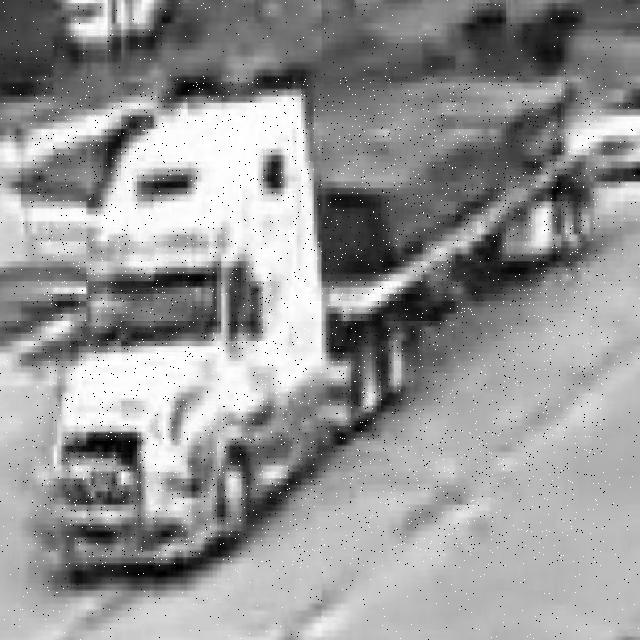Box Truck: (31, 76, 605, 567)
